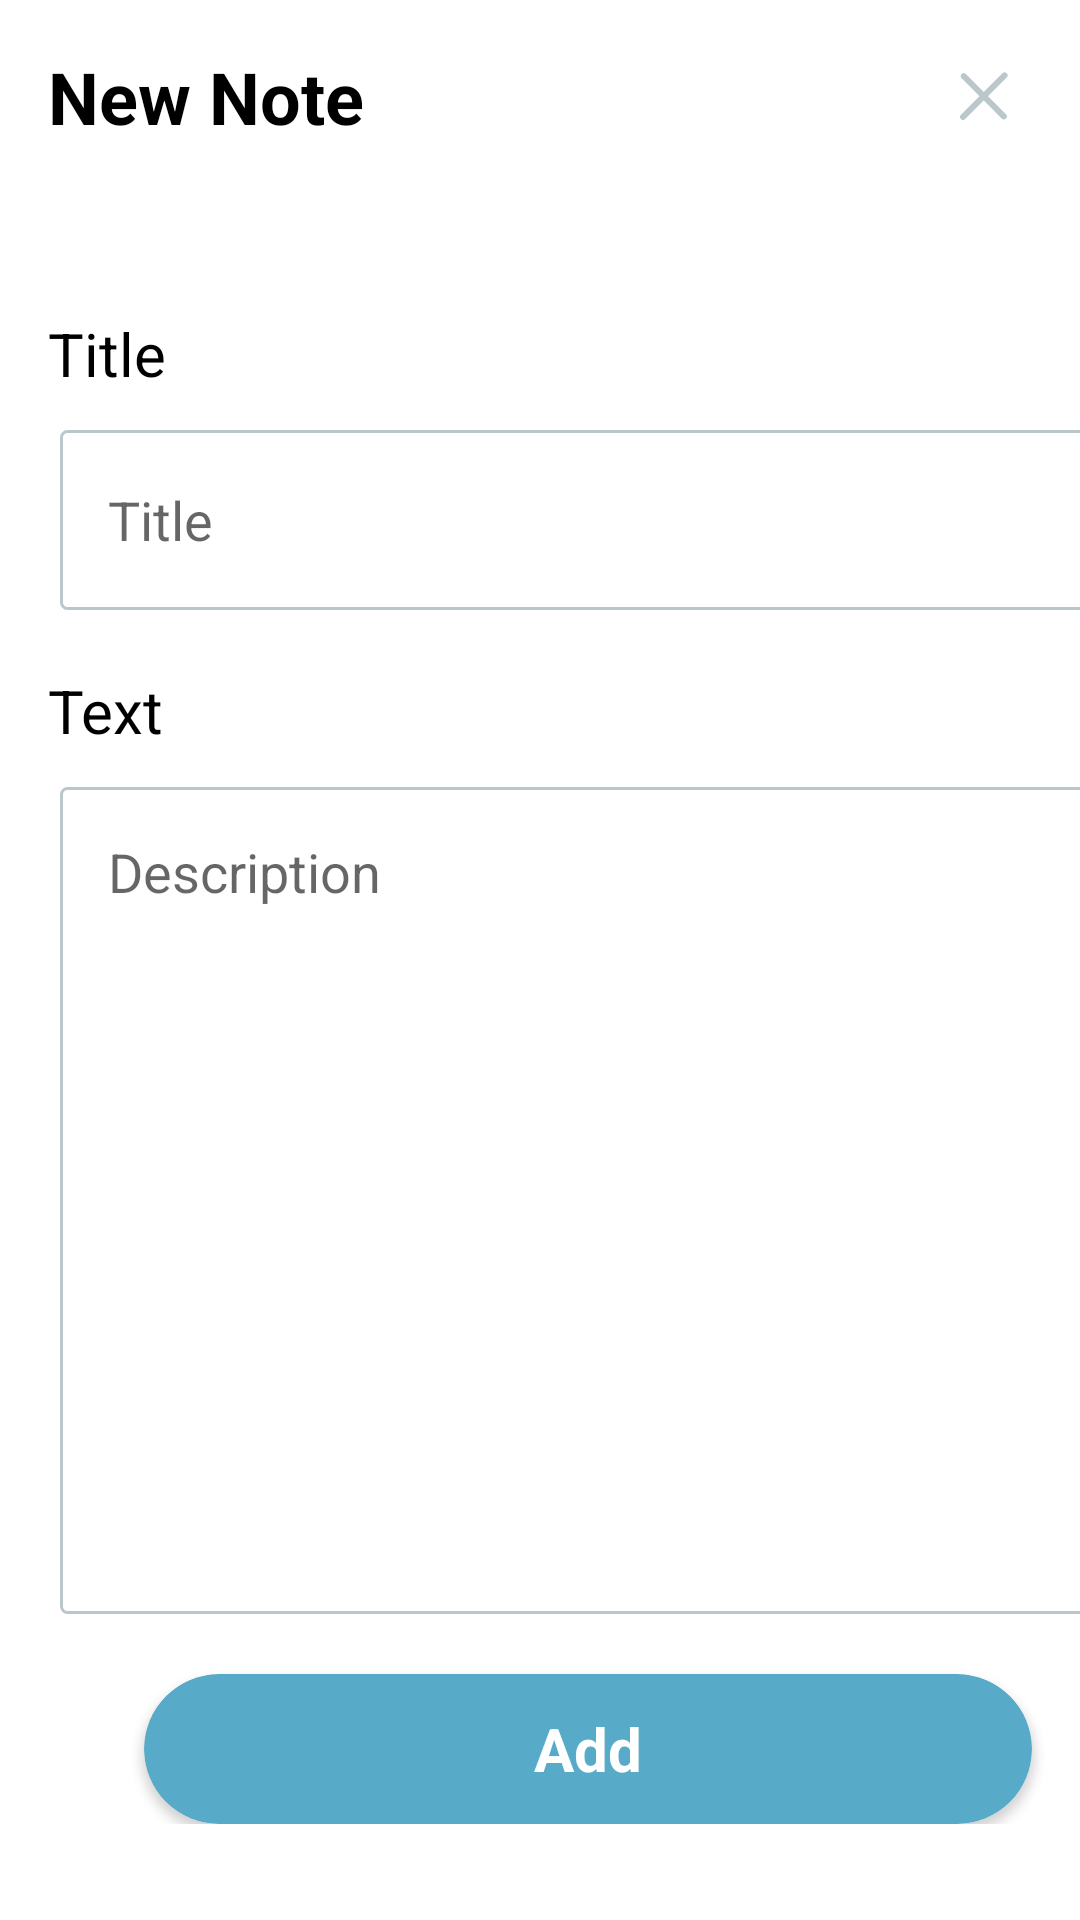

Locate icon controls on the screen. Image size 1080 x 1920, boxes as detection(x1, y1, x2, y2).
close: detection(960, 72, 1008, 120)
